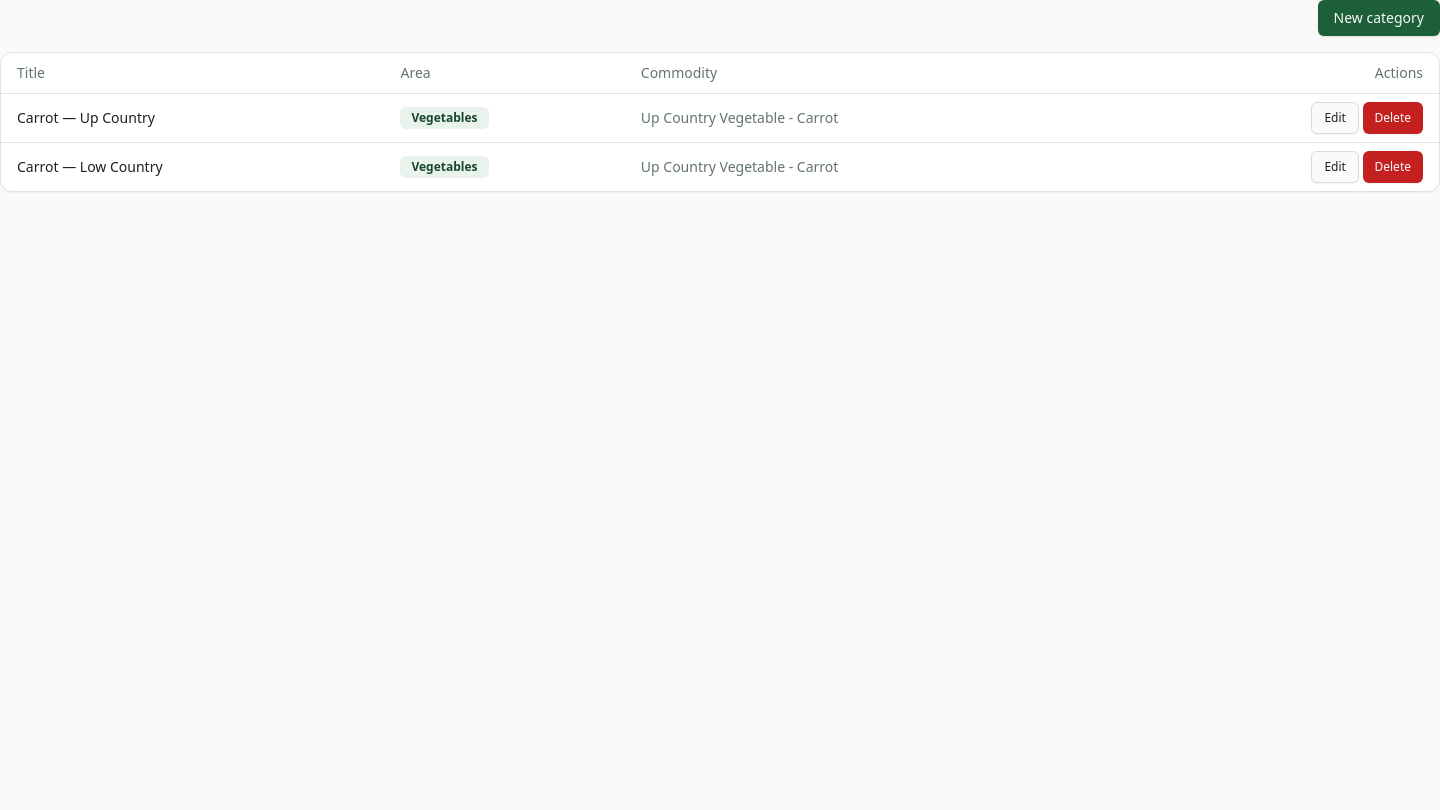
Test: CategoriesTable › shows the reverse-lookup panel when the selected commodity is shared with another category
The width and height of the screenshot is (1440, 810).
Click the button "Edit" in the row of "Carrot — Up Country".
click(1335, 118)  # box [1311, 102, 1359, 134]
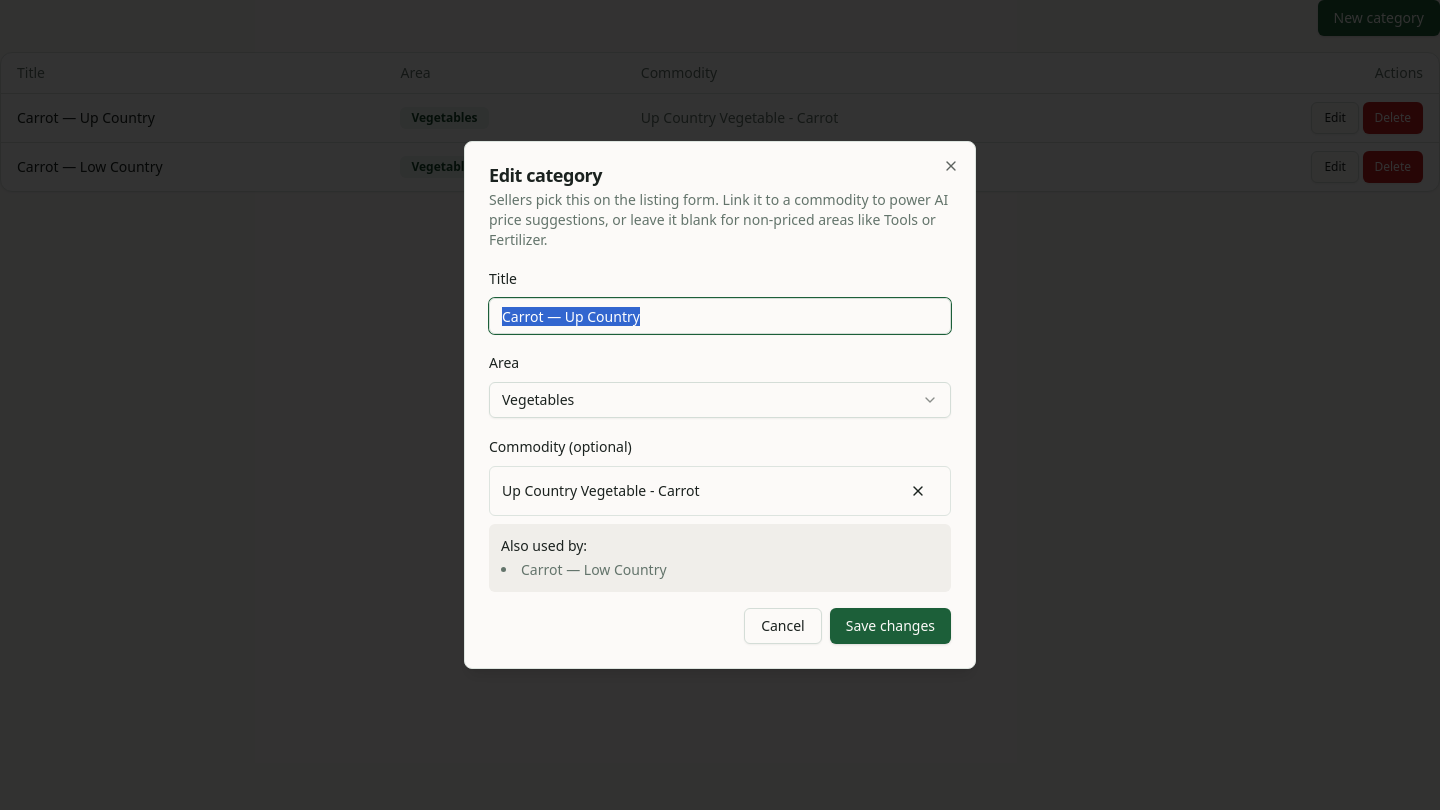
Check: the text "Also used by:" is shown, box [501, 536, 587, 555]
Check: the list item "Carrot — Low Country" is shown, box [521, 560, 667, 579]
